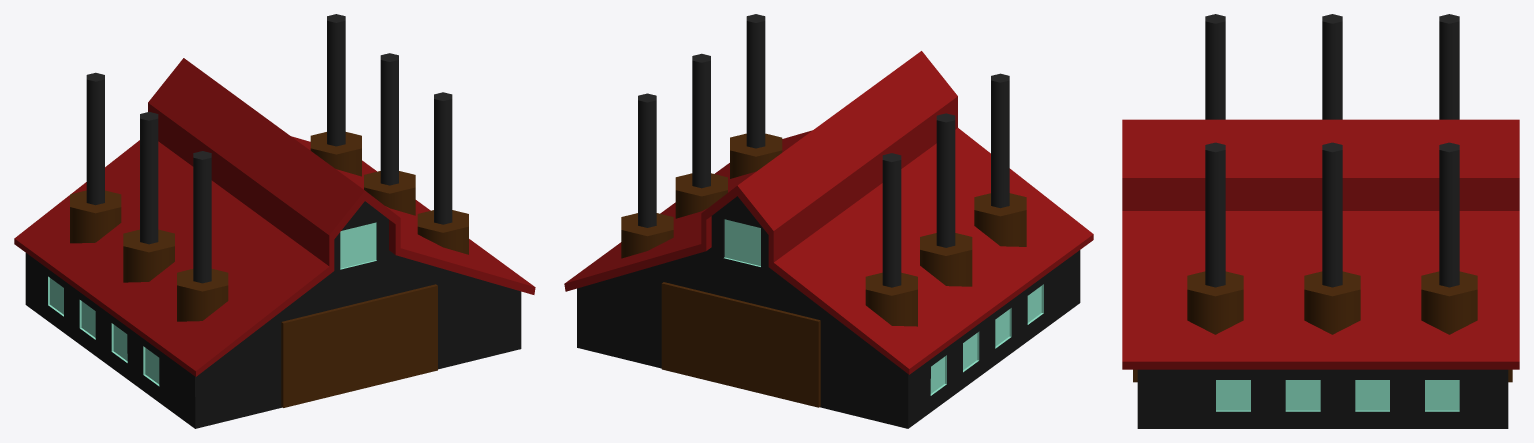
Rendered from lowploybuilding10.FBX.
3 views of the same model, side by side, from view 1: azimuth 30°, elevation 25°; view 2: azimuth 150°, elevation 25°; view 3: azimuth 270°, elevation 25° (orthographic). The views are drawn at different scales.
Visible parts, largest first — view 1: Line002, Line001, Box003, ChamferCyl006, ChamferCyl010, ChamferCyl012, ChamferCyl004, ChamferCyl005, ChamferCyl011, ChamferCyl003, ChamferCyl002, ChamferCyl001 (+3 smaller); view 2: Line002, Line001, Box004, ChamferCyl012, ChamferCyl004, ChamferCyl005, ChamferCyl006, ChamferCyl010, ChamferCyl011, ChamferCyl002, ChamferCyl003, ChamferCyl001 (+3 smaller); view 3: Line002, Line001, ChamferCyl010, ChamferCyl011, ChamferCyl012, ChamferCyl007, ChamferCyl008, ChamferCyl009, ChamferCyl004, ChamferCyl005, ChamferCyl006.
Boxes of the visible parts, bbox=[...] form: Line002: bbox=[14, 58, 535, 376]; Line001: bbox=[25, 201, 521, 428]; Box003: bbox=[281, 284, 437, 407]; ChamferCyl006: bbox=[193, 151, 211, 283]; ChamferCyl010: bbox=[327, 14, 345, 146]; ChamferCyl012: bbox=[434, 92, 452, 224]; ChamferCyl004: bbox=[86, 72, 104, 205]; ChamferCyl005: bbox=[140, 112, 158, 244]; ChamferCyl011: bbox=[380, 53, 398, 185]; ChamferCyl003: bbox=[177, 269, 228, 321]; ChamferCyl002: bbox=[123, 229, 174, 282]; ChamferCyl001: bbox=[70, 190, 121, 243]; Line002: bbox=[564, 51, 1093, 374]; Line001: bbox=[577, 196, 1080, 428]; Box004: bbox=[661, 282, 820, 407]; ChamferCyl012: bbox=[746, 14, 765, 148]; ChamferCyl004: bbox=[882, 153, 901, 287]; ChamferCyl005: bbox=[936, 113, 955, 247]; ChamferCyl006: bbox=[991, 73, 1009, 208]; ChamferCyl010: bbox=[638, 93, 656, 227]; ChamferCyl011: bbox=[692, 53, 710, 188]; ChamferCyl002: bbox=[920, 233, 972, 286]; ChamferCyl003: bbox=[974, 193, 1026, 246]; ChamferCyl001: bbox=[865, 272, 917, 326]; Line002: bbox=[1122, 119, 1519, 369]; Line001: bbox=[1137, 369, 1508, 428]; ChamferCyl010: bbox=[1439, 142, 1459, 287]; ChamferCyl011: bbox=[1322, 142, 1342, 287]; ChamferCyl012: bbox=[1205, 142, 1225, 287]; ChamferCyl007: bbox=[1421, 271, 1477, 334]; ChamferCyl008: bbox=[1304, 271, 1360, 334]; ChamferCyl009: bbox=[1187, 271, 1243, 334]; ChamferCyl004: bbox=[1439, 14, 1459, 119]; ChamferCyl005: bbox=[1322, 14, 1342, 119]; ChamferCyl006: bbox=[1205, 14, 1225, 119].
Size of the model in its own units: 363 by 242 by 336.
